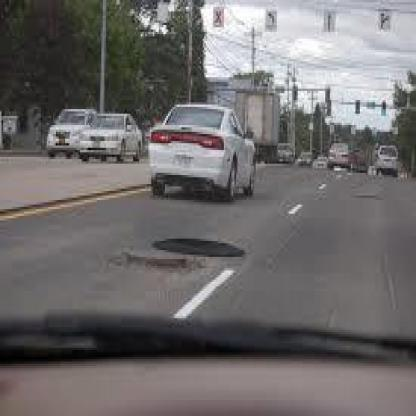manholes: (141, 209, 257, 289)
